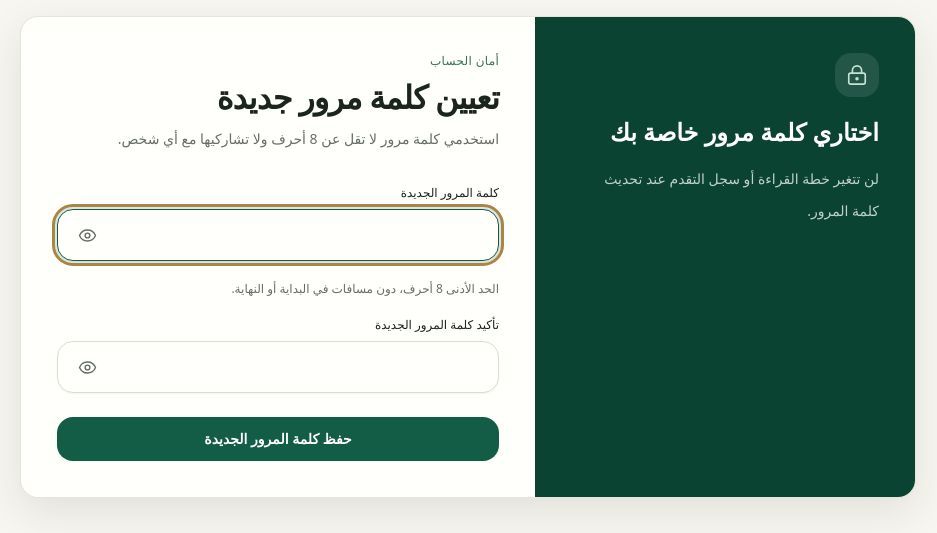
ResetPasswordPage › updates the password once and clears both fields after success
Type "new-password-123" into the password field labelled "كلمة المرور الجديدة" at coordinates (278, 235), box top-left (57, 209), bottom-right (499, 261)
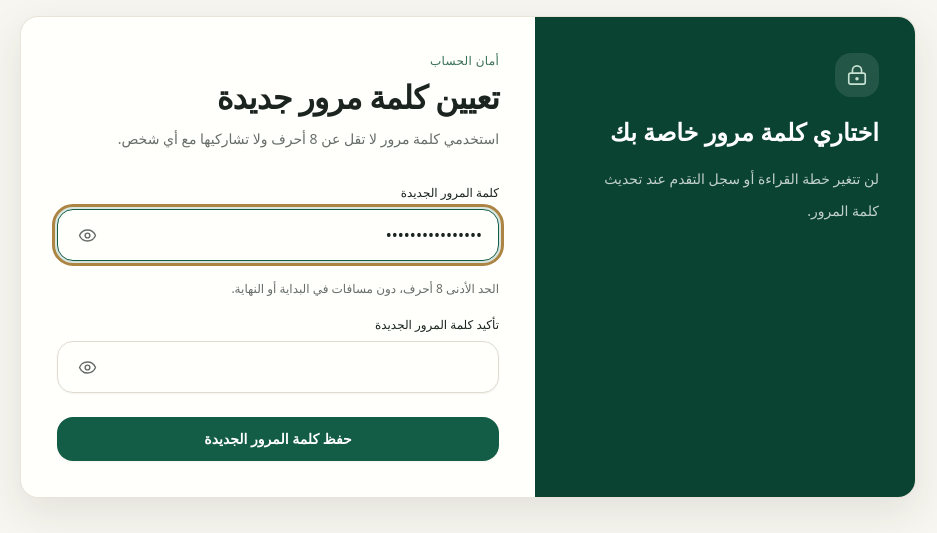
Type "new-password-123" into the password field labelled "تأكيد كلمة المرور الجديدة" at coordinates (278, 367), box top-left (57, 341), bottom-right (499, 393)
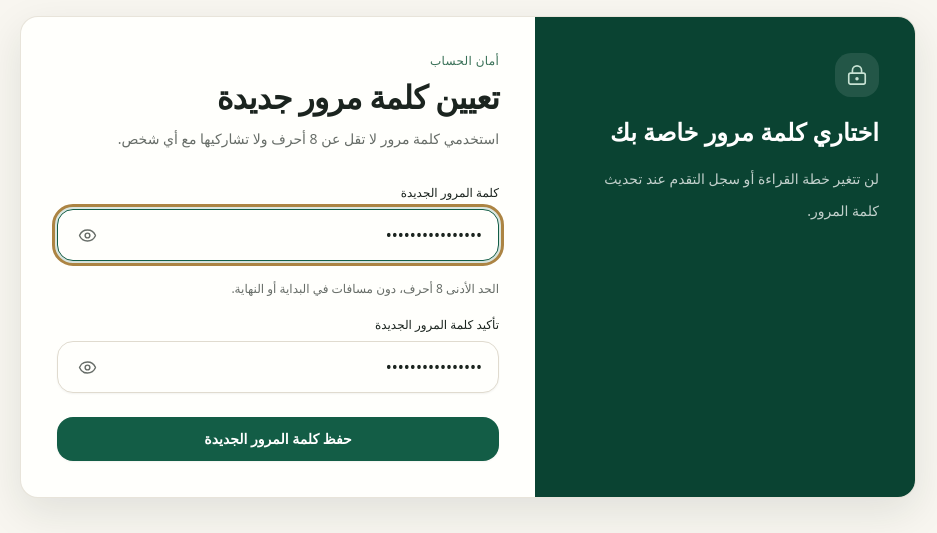
Submit the form named "حفظ كلمة المرور الجديدة", box top-left (21, 17), bottom-right (535, 497)
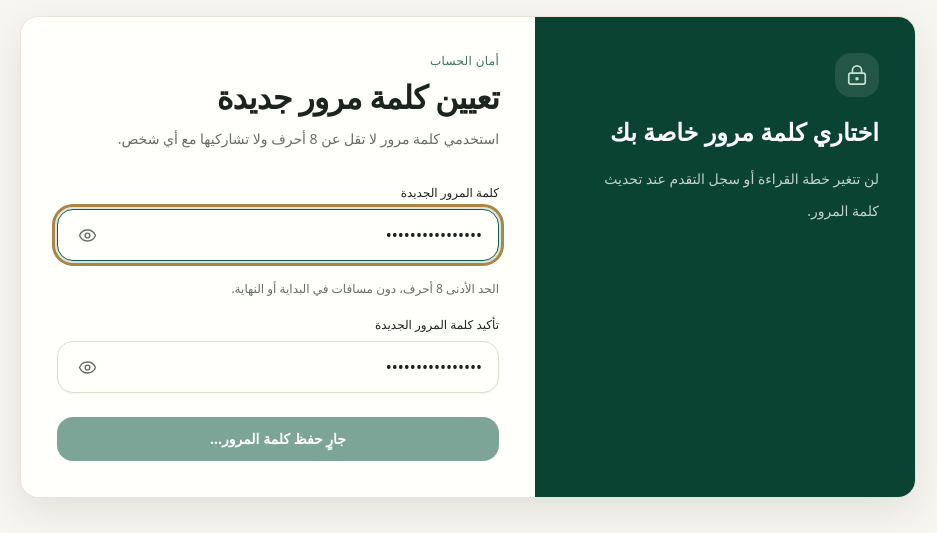
Submit the form named "حفظ كلمة المرور الجديدة", box top-left (21, 17), bottom-right (535, 497)
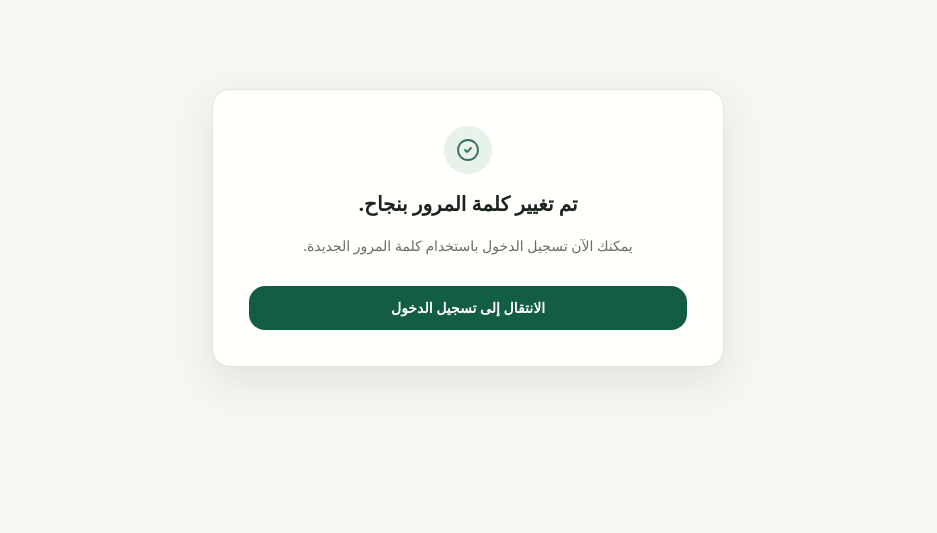
Now the heading "تم تغيير كلمة المرور بنجاح." is shown, box top-left (358, 190), bottom-right (578, 217)
